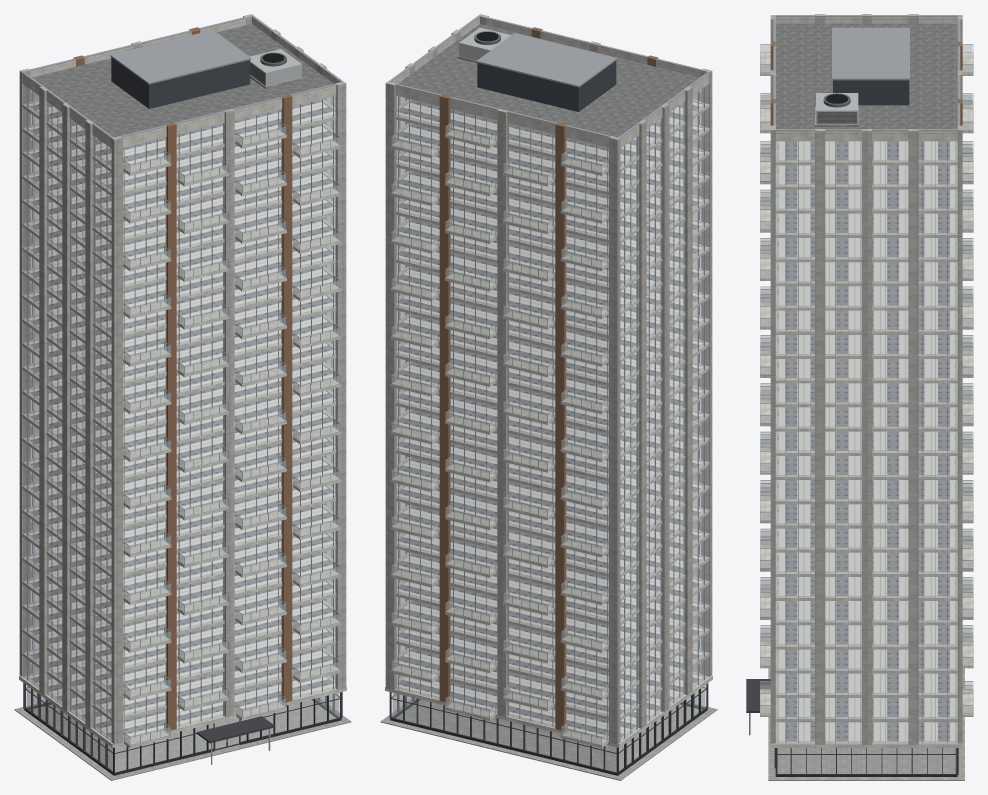
The model's file is residential-tower.glb.
The picture shows the model from 3 angles, left to right: view 1: azimuth 30°, elevation 25°; view 2: azimuth 150°, elevation 25°; view 3: azimuth 270°, elevation 25°; orthographic projection.
Parts seen in each view (by area): view 1: Apartments glass, Apartment floors, Cladding piers, Slab edges, Balconies, Apartments frames, Balcony glass, Balcony balustrades, Roof, Roof plant, Ground floor, Lobby glass (+4 smaller); view 2: Apartments glass, Apartment floors, Cladding piers, Slab edges, Balconies, Apartments frames, Balcony glass, Balcony balustrades, Roof, Ground floor, Roof plant, Lobby glass (+3 smaller); view 3: Apartments glass, Apartment floors, Cladding piers, Slab edges, Roof, Balconies, Apartments frames, Roof plant, Balcony glass, Ground floor, Lobby glass, Balcony balustrades (+4 smaller).
Part boxes in pixels (left/top/right/bottom): Apartments glass: left=23, top=84, right=335, bottom=741; Apartment floors: left=28, top=100, right=335, bottom=738; Cladding piers: left=19, top=14, right=346, bottom=744; Slab edges: left=22, top=80, right=336, bottom=741; Balconies: left=34, top=94, right=341, bottom=747; Apartments frames: left=27, top=87, right=333, bottom=739; Balcony glass: left=124, top=123, right=340, bottom=744; Balcony balustrades: left=31, top=92, right=340, bottom=745; Roof: left=32, top=24, right=333, bottom=137; Roof plant: left=110, top=30, right=303, bottom=108; Ground floor: left=14, top=675, right=351, bottom=780; Lobby glass: left=26, top=685, right=339, bottom=772; Apartments glass: left=396, top=84, right=708, bottom=741; Apartment floors: left=396, top=100, right=703, bottom=738; Cladding piers: left=385, top=14, right=712, bottom=744; Slab edges: left=395, top=80, right=709, bottom=741; Balconies: left=390, top=94, right=697, bottom=747; Apartments frames: left=398, top=87, right=704, bottom=739; Balcony glass: left=391, top=123, right=607, bottom=744; Balcony balustrades: left=391, top=92, right=700, bottom=745; Roof: left=398, top=24, right=699, bottom=137; Ground floor: left=380, top=675, right=717, bottom=780; Roof plant: left=458, top=27, right=617, bottom=111; Lobby glass: left=392, top=685, right=705, bottom=771; Apartments glass: left=776, top=141, right=957, bottom=742; Apartment floors: left=778, top=141, right=954, bottom=741; Cladding piers: left=770, top=14, right=962, bottom=744; Slab edges: left=775, top=138, right=957, bottom=743; Roof: left=776, top=23, right=957, bottom=128; Balconies: left=760, top=53, right=973, bottom=716; Apartments frames: left=785, top=141, right=947, bottom=743; Roof plant: left=815, top=27, right=909, bottom=126; Balcony glass: left=760, top=45, right=972, bottom=713; Ground floor: left=768, top=631, right=964, bottom=780; Lobby glass: left=777, top=748, right=956, bottom=773; Balcony balustrades: left=760, top=44, right=973, bottom=713.
Size of the model in its own units: 33.2 by 86.95 by 26.8.
20 materials, 20 textured.
